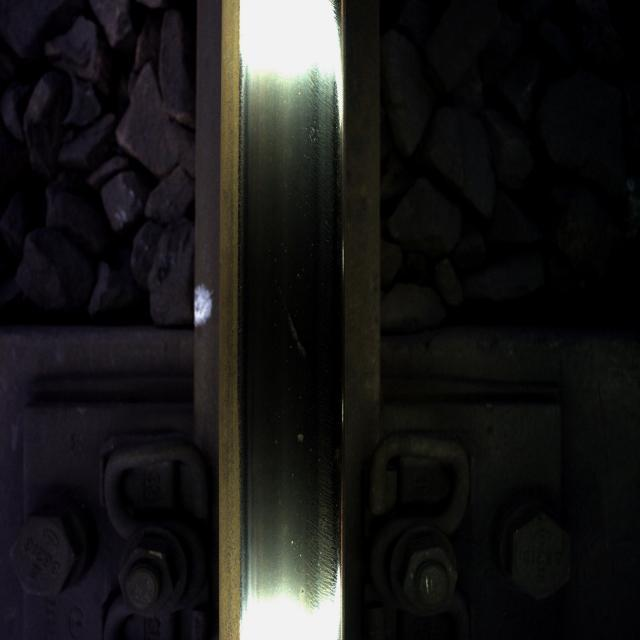normal: (245, 16, 334, 610)
